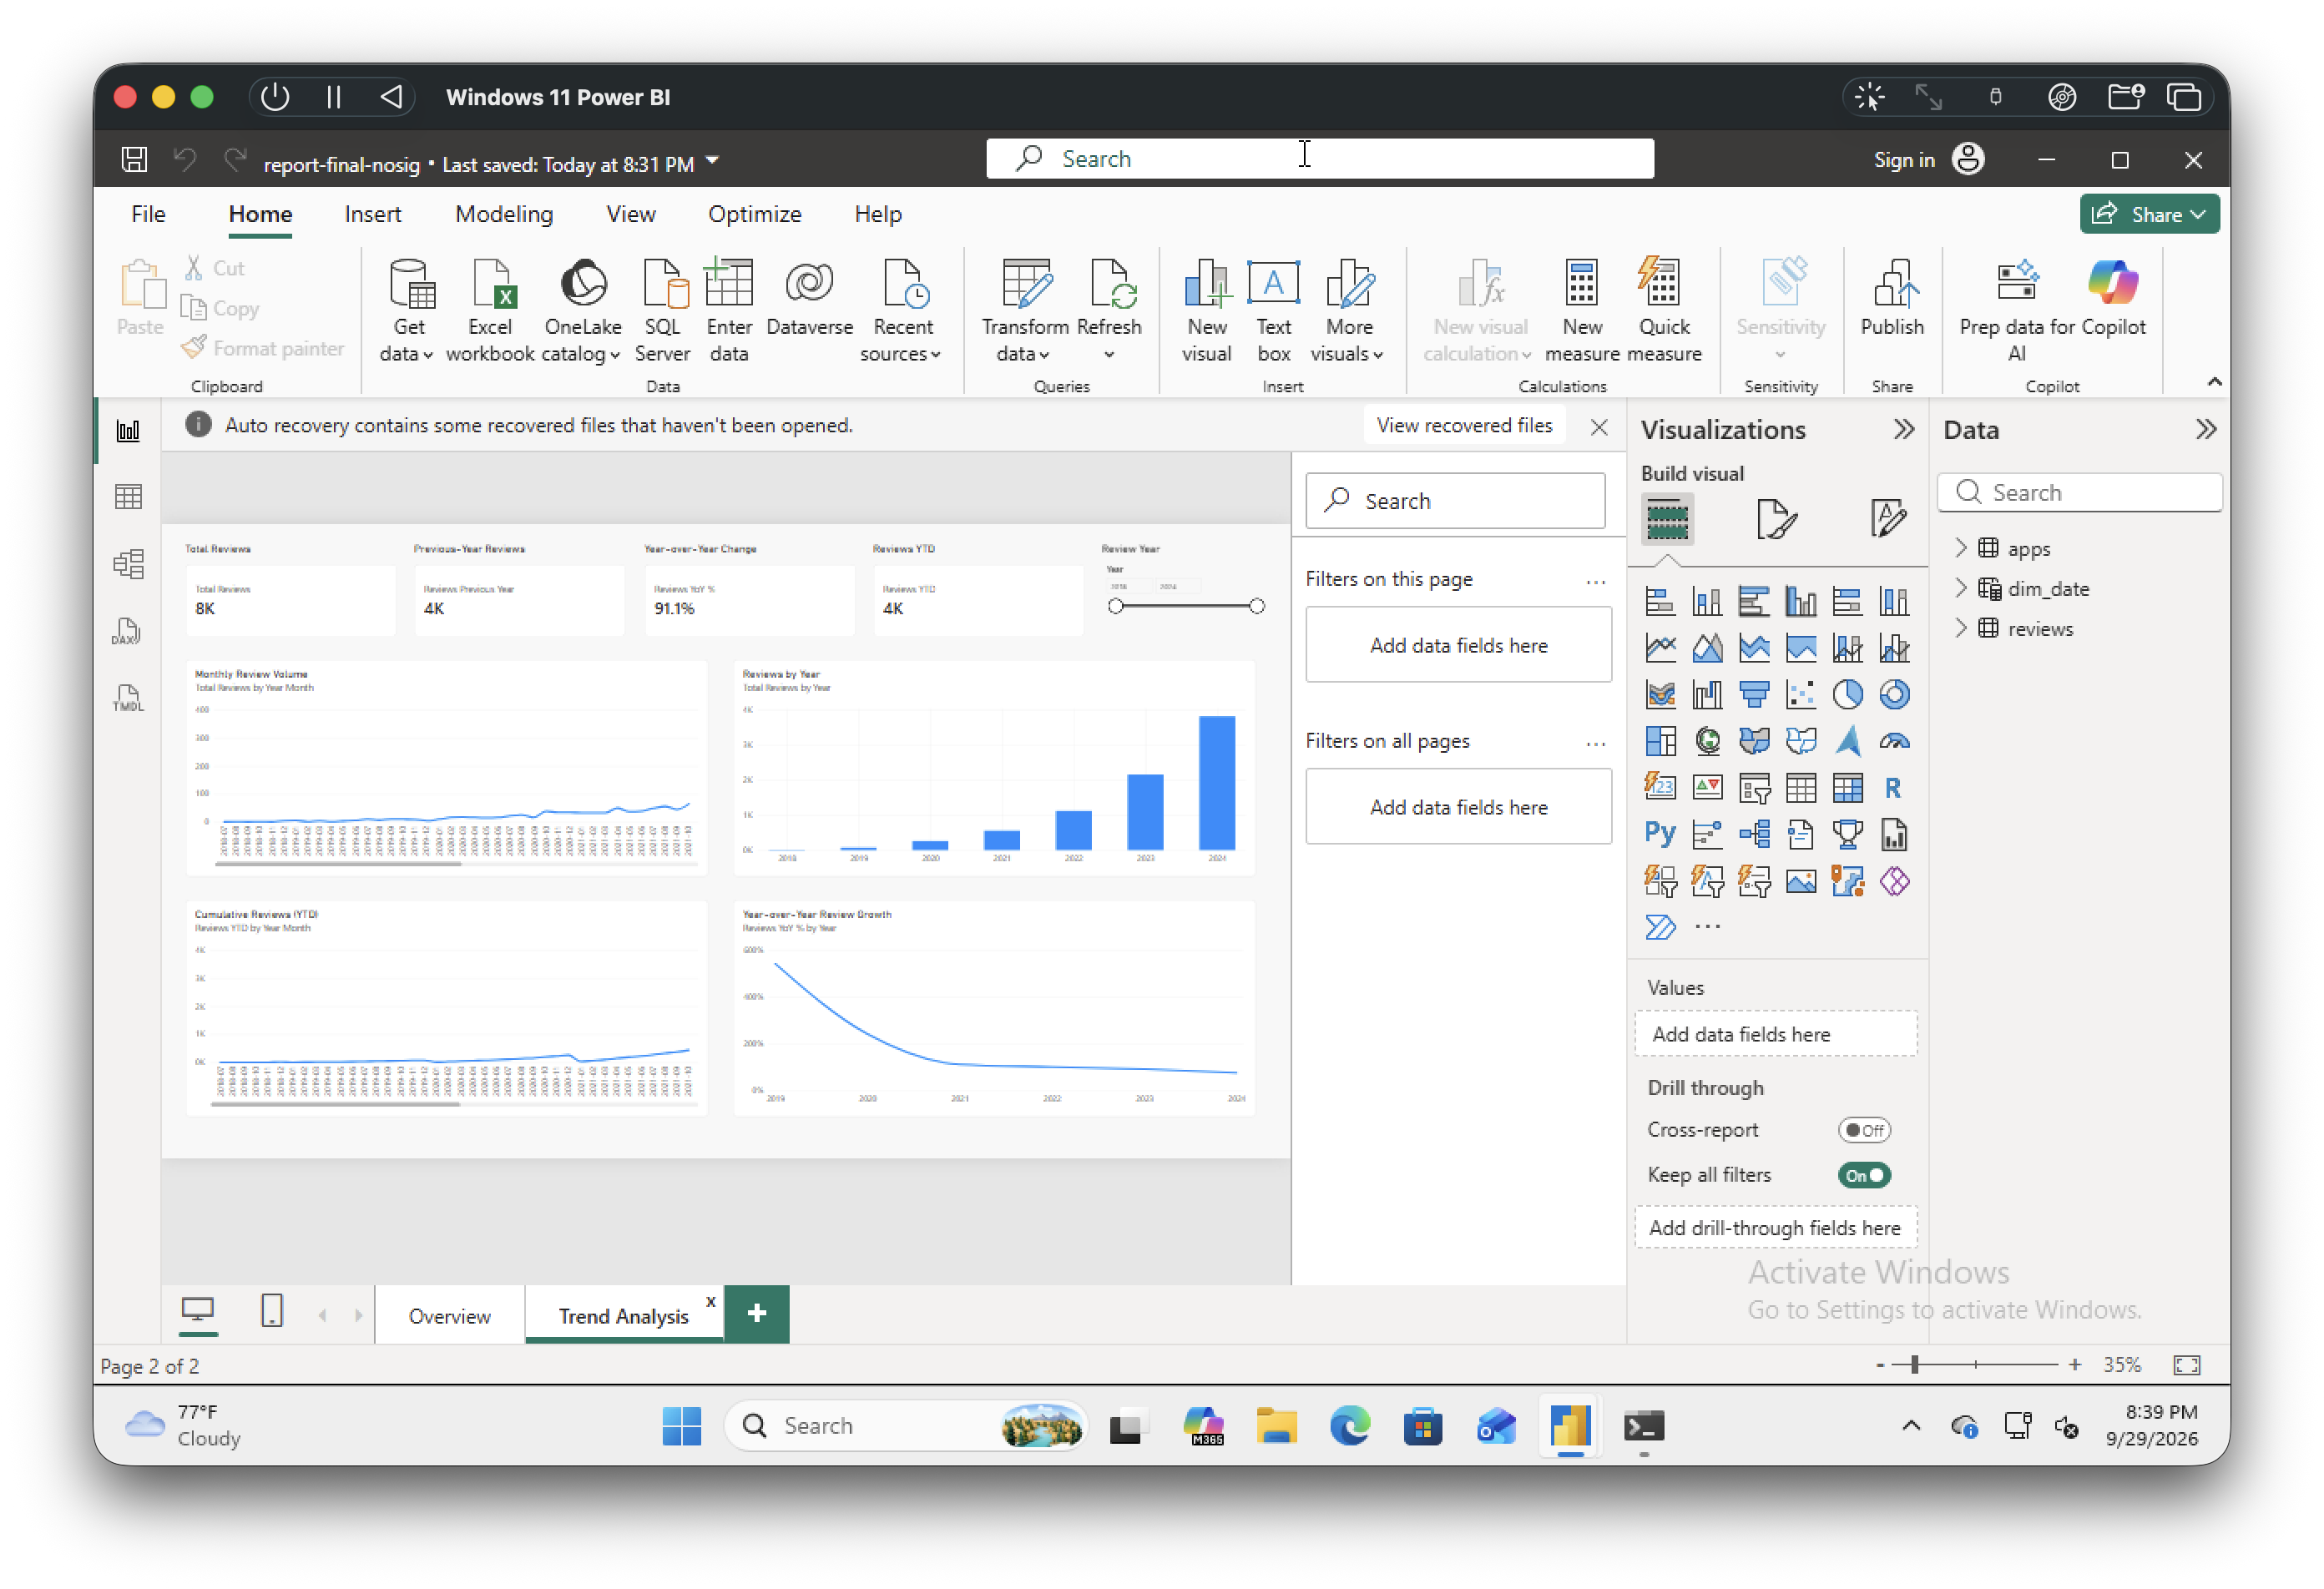

What the dashboard file says about the page in this screenshot:
{"tool":"powerbi","page":{"name":"Trend Analysis","canvas":[1920,1080],"ordinal":1},"visuals":[{"type":"cardVisual","title":"Total Reviews","fields":{"Data":["apps.Total Reviews"]},"box":[40,30,360,160],"z":0},{"type":"cardVisual","title":"Previous-Year Reviews","fields":{"Data":["apps.Reviews Previous Year"]},"box":[430,30,360,160],"z":1},{"type":"cardVisual","title":"Year-over-Year Change","fields":{"Data":["apps.Reviews YoY %"]},"box":[820,30,360,160],"z":2},{"type":"cardVisual","title":"Reviews YTD","fields":{"Data":["apps.Reviews YTD"]},"box":[1210,30,360,160],"z":3},{"type":"slicer","title":"Review Year","fields":{"Values":["dim_date.Year"]},"box":[1600,30,280,180],"z":4},{"type":"lineChart","title":"Monthly Review Volume","fields":{"Category":["dim_date.Year Month"],"Y":["apps.Total Reviews"]},"box":[40,230,890,370],"z":5},{"type":"clusteredColumnChart","title":"Reviews by Year","fields":{"Category":["dim_date.Year"],"Y":["apps.Total Reviews"]},"box":[970,230,890,370],"z":6},{"type":"lineChart","title":"Cumulative Reviews (YTD)","fields":{"Category":["dim_date.Year Month"],"Y":["apps.Reviews YTD"]},"box":[40,640,890,370],"z":7},{"type":"lineChart","title":"Year-over-Year Review Growth","fields":{"Category":["dim_date.Year"],"Y":["apps.Reviews YoY %"]},"box":[970,640,890,370],"z":8},{"type":"pageNavigator","box":[1212.8,1008.3,400,50],"z":9}]}

Visuals, with their boxes on the page's 1920x1080 design canvas (x1, y1, x2, y2). These are canvas units, not pixel positions in the 2324x1589 screenshot, which may show the page scaled, cropped or inside an application window:
"Total Reviews" cardVisual: bbox=(40, 30, 400, 190)
"Previous-Year Reviews" cardVisual: bbox=(430, 30, 790, 190)
"Year-over-Year Change" cardVisual: bbox=(820, 30, 1180, 190)
"Reviews YTD" cardVisual: bbox=(1210, 30, 1570, 190)
"Review Year" slicer: bbox=(1600, 30, 1880, 210)
"Monthly Review Volume" lineChart: bbox=(40, 230, 930, 600)
"Reviews by Year" clusteredColumnChart: bbox=(970, 230, 1860, 600)
"Cumulative Reviews (YTD)" lineChart: bbox=(40, 640, 930, 1010)
"Year-over-Year Review Growth" lineChart: bbox=(970, 640, 1860, 1010)
pageNavigator: bbox=(1213, 1008, 1613, 1058)
